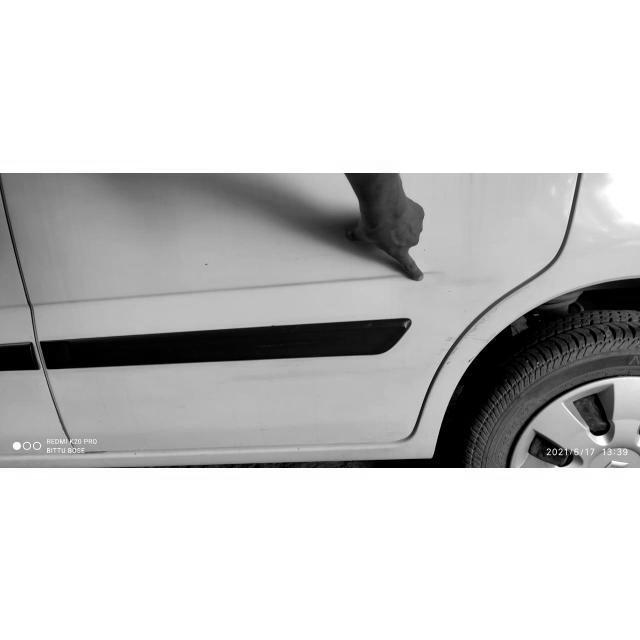doorouter-dent: (36, 178, 470, 447)
